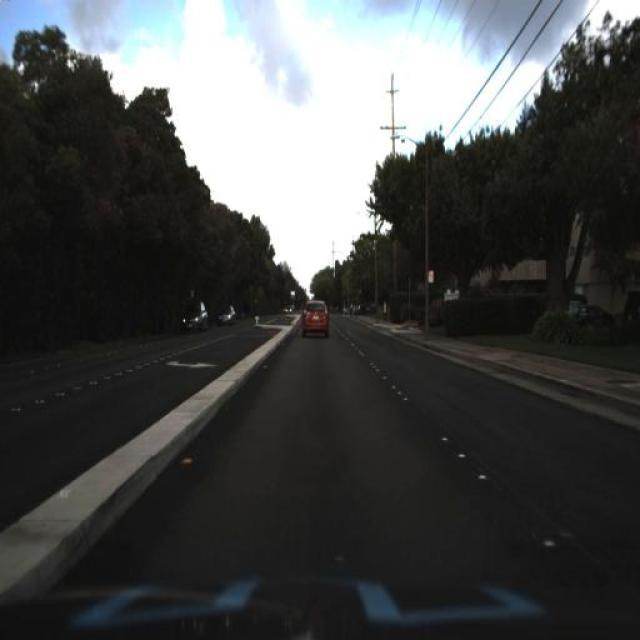car: (300, 297, 330, 338), (182, 299, 207, 332), (214, 299, 237, 329), (218, 301, 240, 328)
trafficLight: (383, 298, 388, 322)
